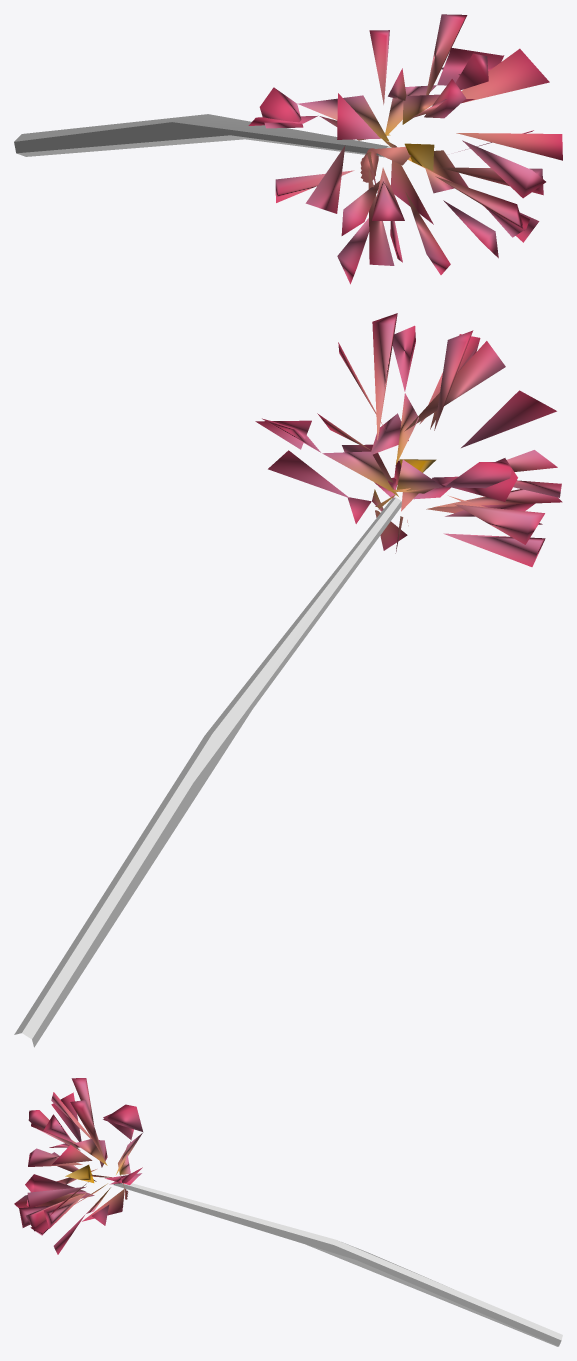
The picture shows the model from 3 angles, top to bottom: view 1: azimuth 30°, elevation 25°; view 2: azimuth 150°, elevation 25°; view 3: azimuth 270°, elevation 25°; orthographic projection. The views are drawn at different scales.
Parts seen in each view (by area): view 1: LOD 4_f2024c57-931d-5c86-9ae7-95641e97f6a6; view 2: LOD 4_f2024c57-931d-5c86-9ae7-95641e97f6a6; view 3: LOD 4_f2024c57-931d-5c86-9ae7-95641e97f6a6.
Boxes of the visible parts, bbox=[...] form: LOD 4_f2024c57-931d-5c86-9ae7-95641e97f6a6: bbox=[14, 14, 562, 284]; LOD 4_f2024c57-931d-5c86-9ae7-95641e97f6a6: bbox=[14, 313, 562, 1047]; LOD 4_f2024c57-931d-5c86-9ae7-95641e97f6a6: bbox=[14, 1078, 562, 1346].
Size of the model in its own units: 5.61 by 8.62 by 16.67.
